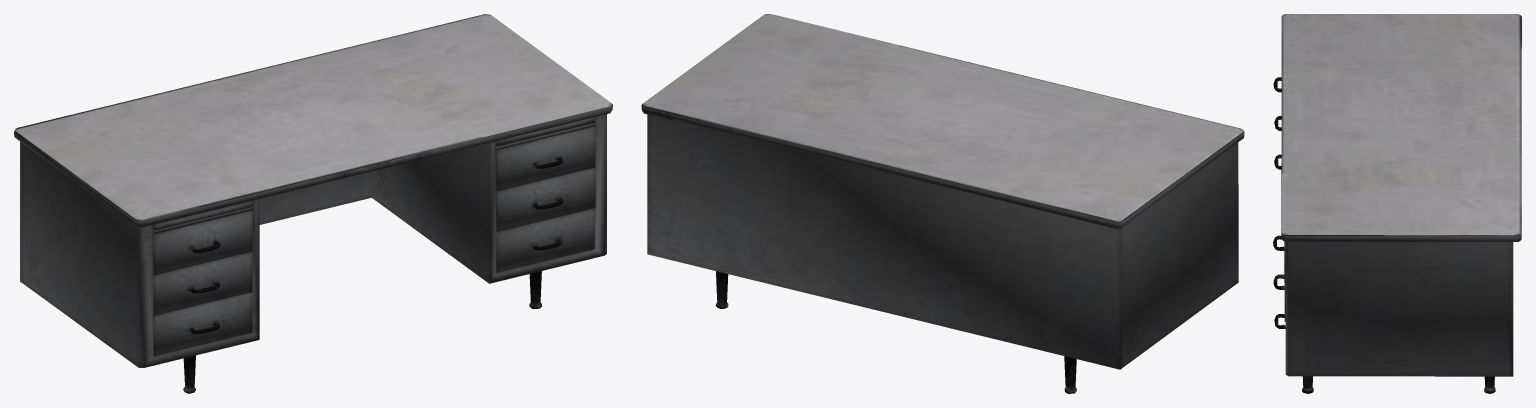
The model's file is desk.glb.
3 renders of one model, left to right at view 1: azimuth 30°, elevation 25°; view 2: azimuth 150°, elevation 25°; view 3: azimuth 270°, elevation 25°, orthographic. The views are drawn at different scales.
Visible parts, largest first — view 1: lo; view 2: lo; view 3: lo.
Boxes of the visible parts, x1=… form: lo: x1=14, y1=14, x2=612, y2=393; lo: x1=641, y1=14, x2=1244, y2=393; lo: x1=1273, y1=14, x2=1521, y2=393.
Bounding box in the file's own units: 2 × 0.7868 × 0.9474.
1 material, 1 textured.
